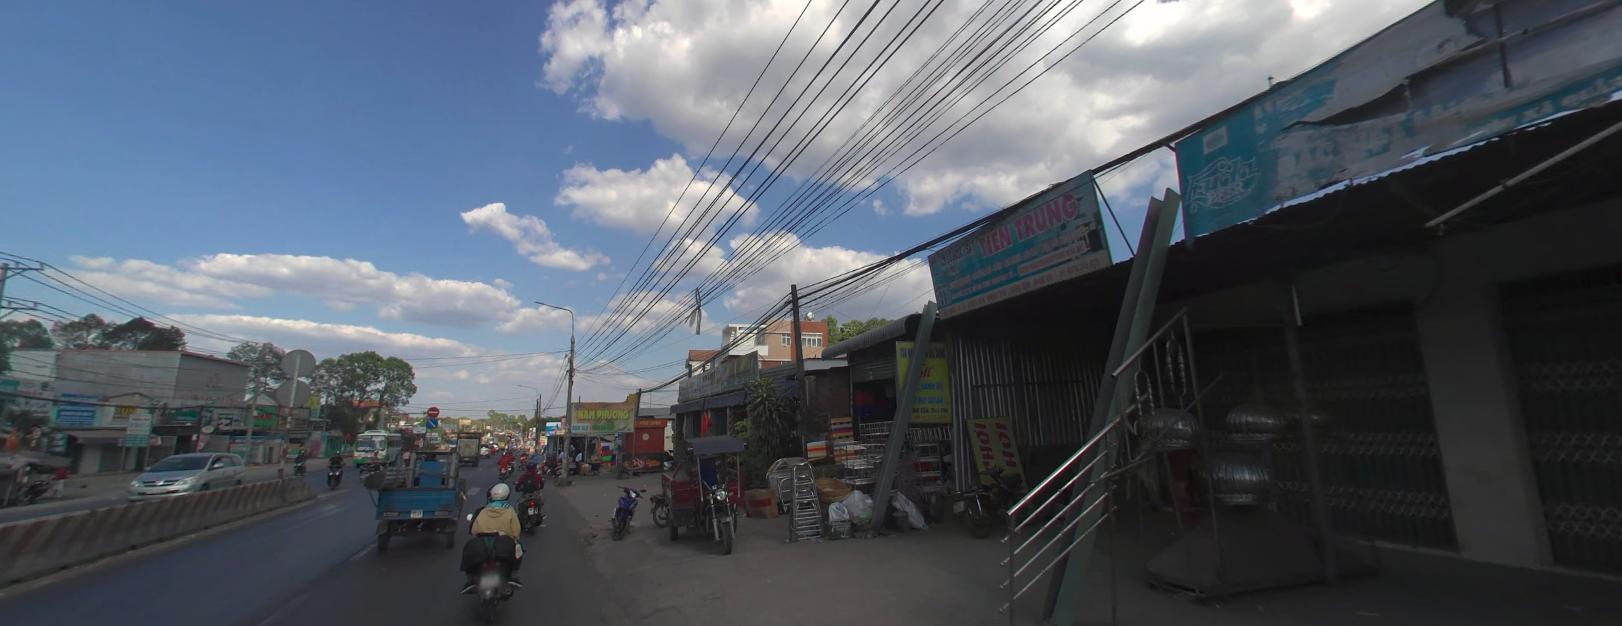Cam nguoc chieu: (427, 405, 439, 416)
Hieu lenh: (426, 416, 438, 427)
